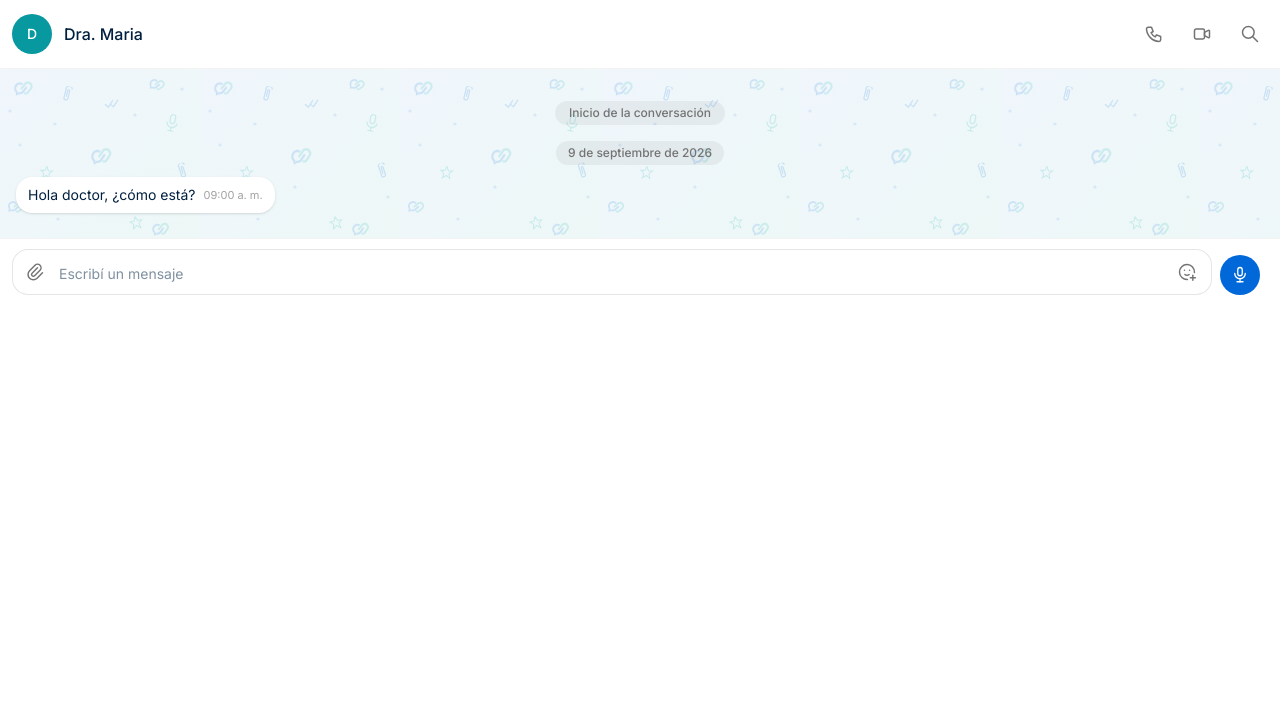
Test case: ConversationView › abre el panel de detalles de la conversación al hacer click en el botón de info
The image size is (1280, 720).
Click the button with aria-label "Ver información de Dra. Maria". click: (32, 34)
box: [12,10,1124,58]
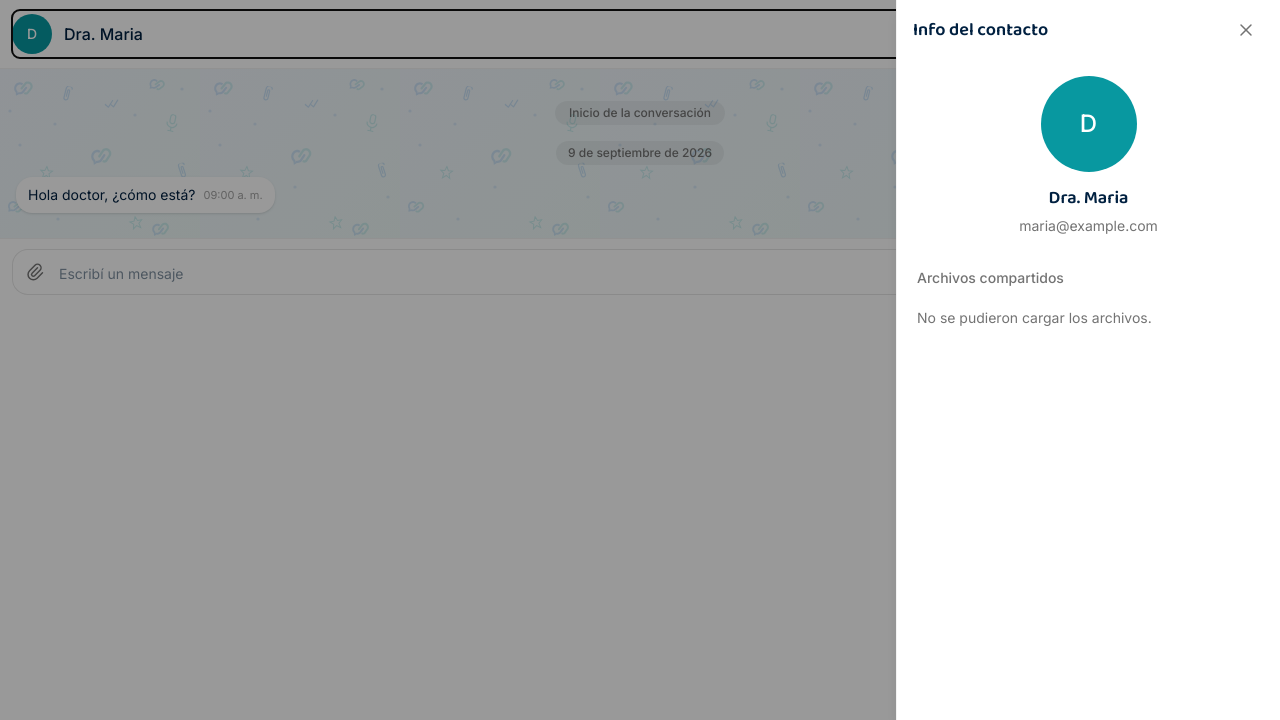
Result: the heading "Info del contacto" is shown at [913,16,1048,44]
